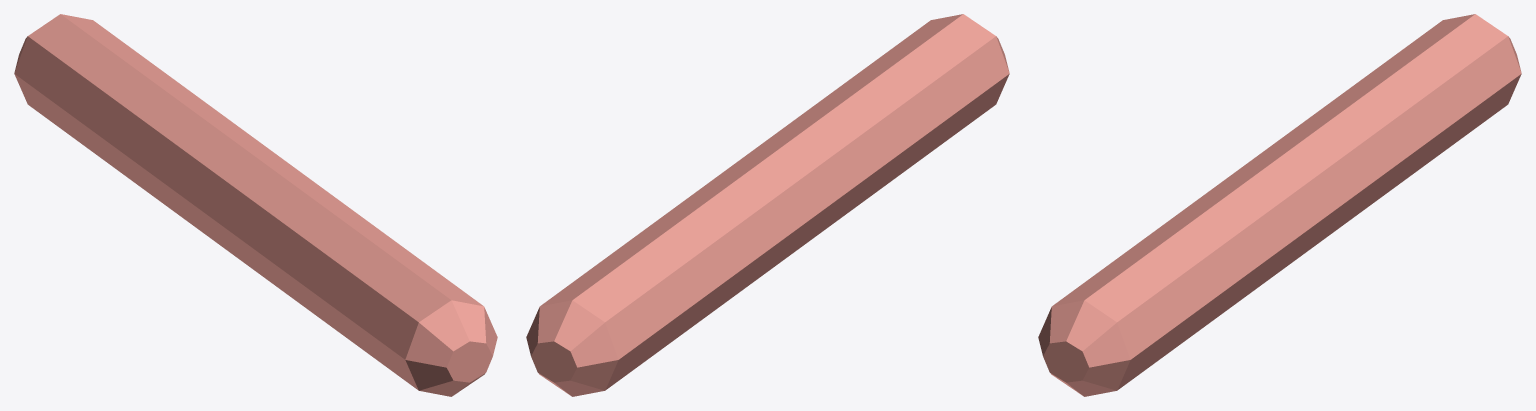
File: Projectile.fbx
3 views of the same model, side by side, from view 1: azimuth 30°, elevation 25°; view 2: azimuth 150°, elevation 25°; view 3: azimuth 330°, elevation 25° (orthographic).
Parts seen in each view (by area): view 1: Sausage; view 2: Sausage; view 3: Sausage.
Part boxes in pixels (left/top/right/bottom): Sausage: left=14, top=14, right=497, bottom=396; Sausage: left=526, top=14, right=1009, bottom=396; Sausage: left=1038, top=14, right=1521, bottom=396.
Bounding box in the file's own units: 0.4152 × 0.4152 × 3.33.
1 material, 1 textured.
